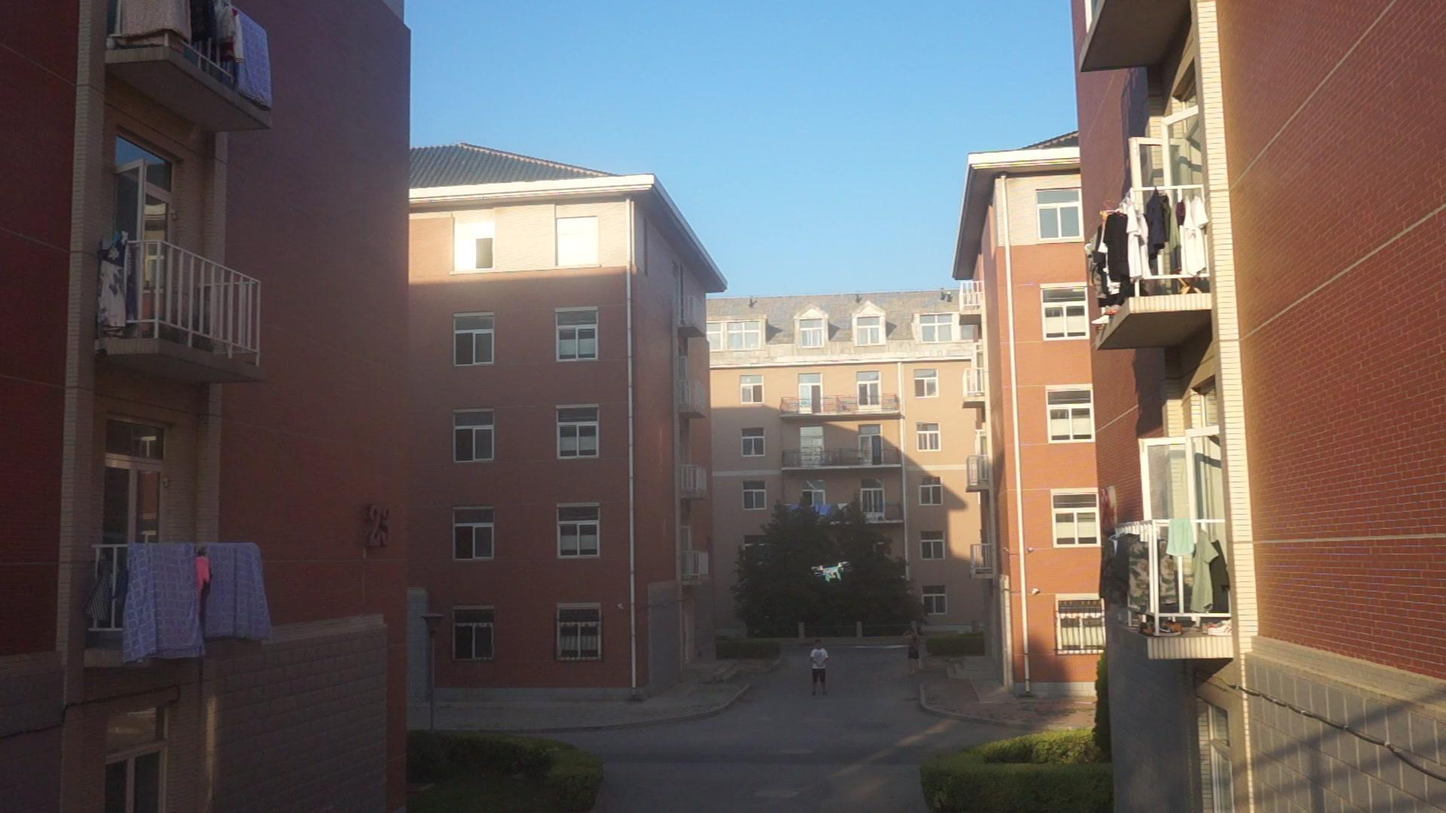UAV: (811, 562, 853, 584)
